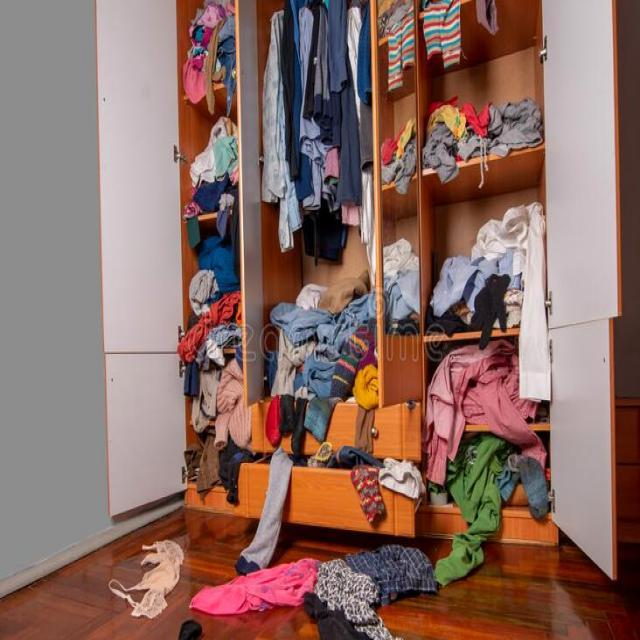clothes: (419, 350, 547, 506), (266, 12, 366, 208), (475, 218, 553, 404), (268, 300, 376, 420), (184, 292, 240, 449), (346, 534, 436, 610), (193, 562, 332, 611), (381, 0, 468, 75), (122, 536, 180, 628), (472, 102, 556, 154), (196, 125, 233, 236), (188, 2, 222, 116), (303, 591, 375, 640), (323, 550, 363, 628), (429, 102, 462, 168), (173, 615, 242, 640)
